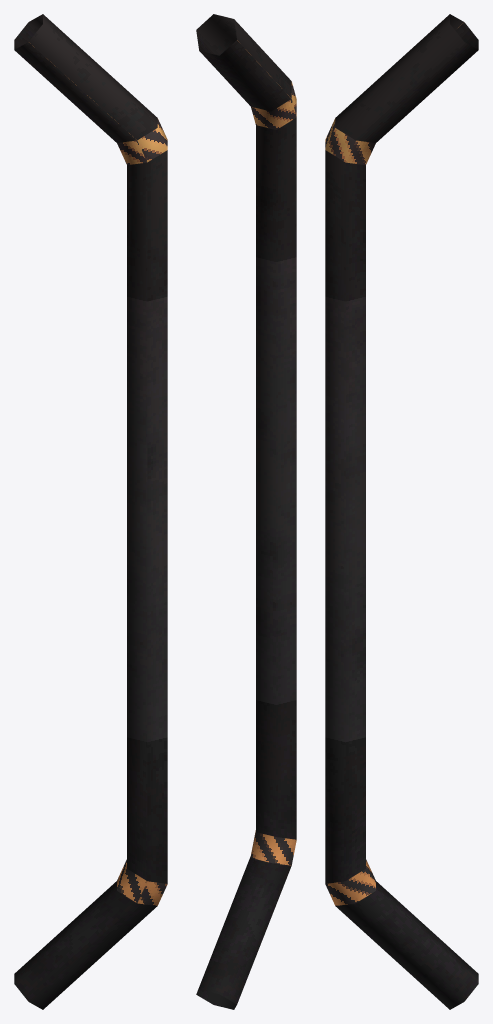
The picture shows the model from 3 angles, left to right: view 1: azimuth 90°, elevation 25°; view 2: azimuth 150°, elevation 25°; view 3: azimuth 270°, elevation 25°; orthographic projection.
Visible parts, largest first — view 1: 5; view 2: 5; view 3: 5.
Part boxes in pixels (x1,y1,x2,y2): 5: (14,14,167,1009); 5: (196,14,296,1009); 5: (325,14,478,1009).
Size of the model in its own units: 0.168 by 3.89 by 0.5486.
Materials: 1 (1 with a texture image).
